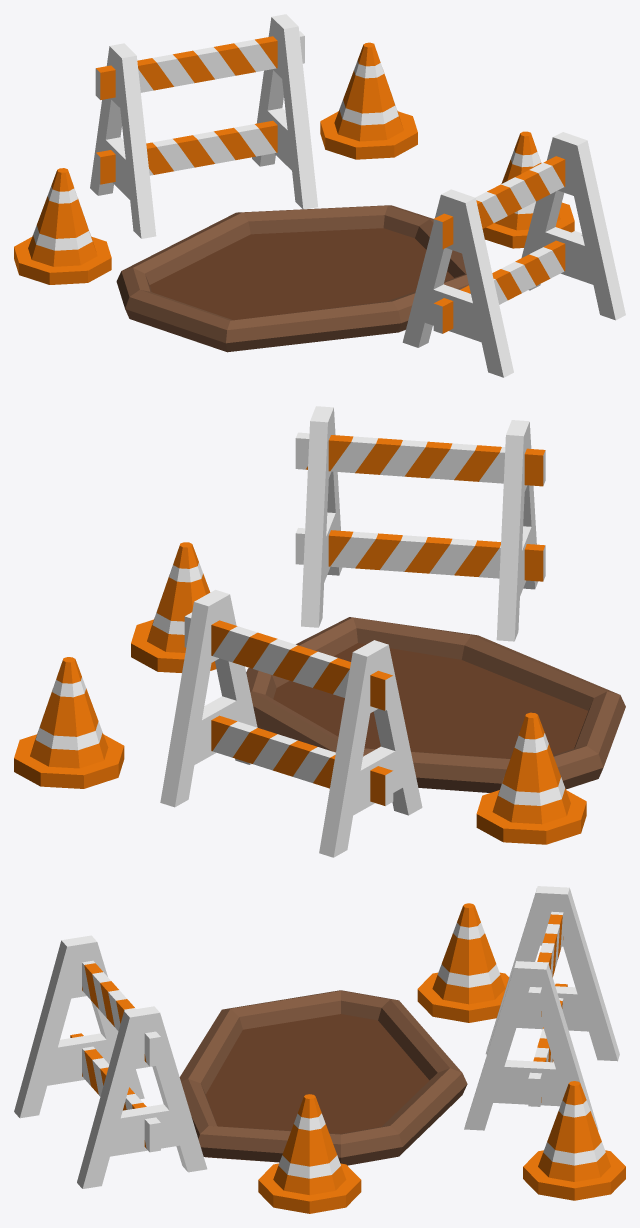
Rendered from RoadWork_1.fbx.
The picture shows the model from 3 angles, top to bottom: view 1: azimuth 30°, elevation 25°; view 2: azimuth 150°, elevation 25°; view 3: azimuth 270°, elevation 25°; orthographic projection. The views are drawn at different scales.
Visible parts, largest first — view 1: RoadWork.001, RoadWork.006, RoadWork.003, RoadWork.004, RoadWork.002, RoadWork.005; view 2: RoadWork.001, RoadWork.003, RoadWork.006, RoadWork.002, RoadWork.004, RoadWork.005; view 3: RoadWork.001, RoadWork.006, RoadWork.003, RoadWork.005, RoadWork.004, RoadWork.002.
Part boxes in pixels (x1=…): RoadWork.001: x1=116, y1=205, x2=468, y2=352; RoadWork.006: x1=402, y1=132, x2=625, y2=377; RoadWork.003: x1=90, y1=14, x2=317, y2=238; RoadWork.004: x1=320, y1=42, x2=417, y2=159; RoadWork.002: x1=14, y1=168, x2=111, y2=284; RoadWork.005: x1=482, y1=131, x2=574, y2=248; RoadWork.001: x1=246, y1=617, x2=625, y2=792; RoadWork.003: x1=160, y1=589, x2=422, y2=857; RoadWork.006: x1=295, y1=406, x2=545, y2=641; RoadWork.002: x1=476, y1=712, x2=586, y2=844; RoadWork.004: x1=14, y1=657, x2=124, y2=788; RoadWork.005: x1=131, y1=542, x2=216, y2=672; RoadWork.001: x1=179, y1=990, x2=467, y2=1165; RoadWork.006: x1=14, y1=935, x2=207, y2=1188; RoadWork.003: x1=464, y1=886, x2=619, y2=1130; RoadWork.005: x1=258, y1=1094, x2=361, y2=1213; RoadWork.004: x1=523, y1=1081, x2=625, y2=1200; RoadWork.002: x1=417, y1=903, x2=508, y2=1022.
Bounding box in the file's own units: 793 × 277 × 875.
Materials: 1 (1 with a texture image).
